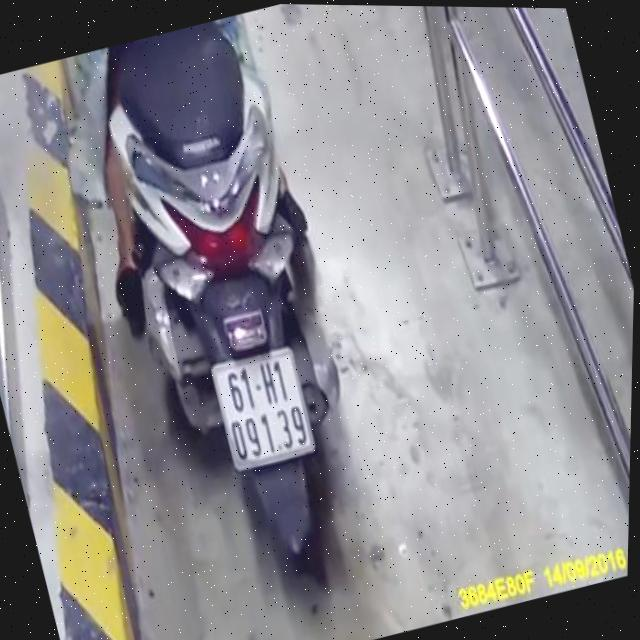motorcycle: (62, 6, 405, 593)
plate: (205, 339, 319, 474)
